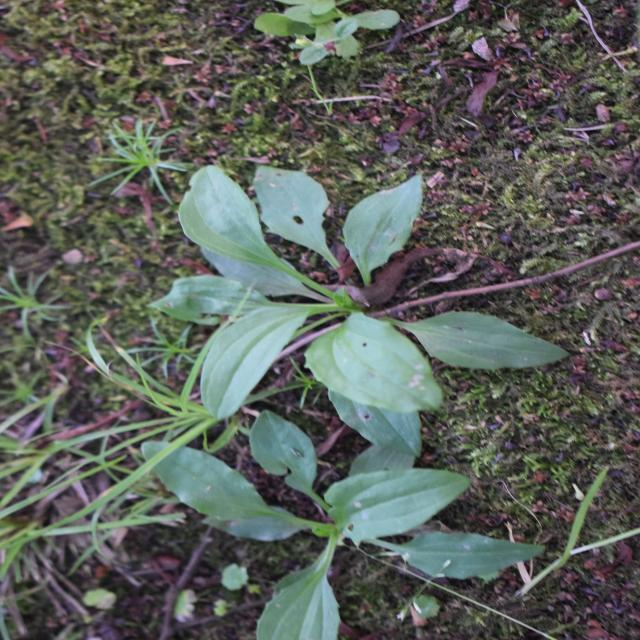plantain: (217, 150, 488, 479), (20, 165, 277, 483)
